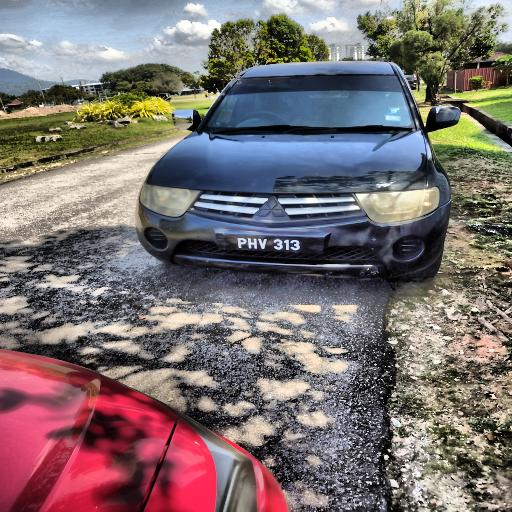license_plate: (231, 235, 309, 255)
